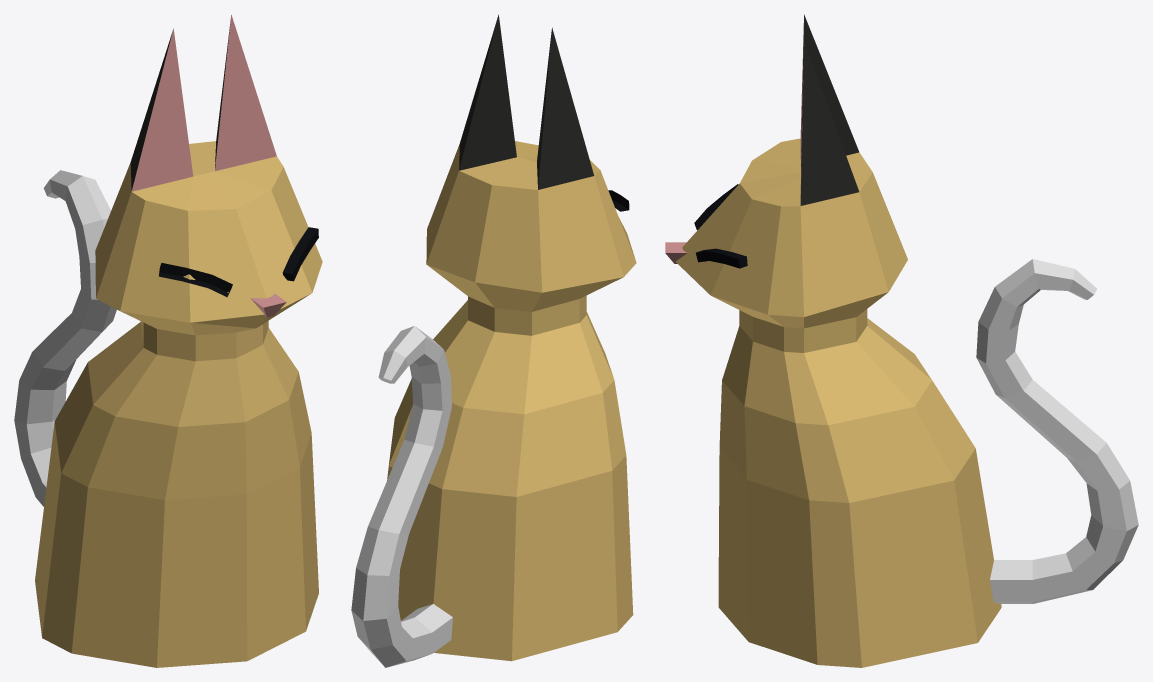
Rendered from cat_yellow.fbx.
The picture shows the model from 3 angles, left to right: view 1: azimuth 30°, elevation 25°; view 2: azimuth 150°, elevation 25°; view 3: azimuth 270°, elevation 25°; orthographic projection. The views are drawn at different scales.
Visible parts, largest first — view 1: cat, tail; view 2: cat, tail; view 3: cat, tail.
Part boxes in pixels (x1=…): cat: x1=35, y1=15, x2=322, y2=667; tail: x1=14, y1=170, x2=116, y2=506; cat: x1=387, y1=14, x2=636, y2=661; tail: x1=351, y1=326, x2=452, y2=667; cat: x1=665, y1=14, x2=1001, y2=667; tail: x1=976, y1=259, x2=1138, y2=603.
Bounding box in the file's own units: 0.53 × 1.18 × 0.8752.
